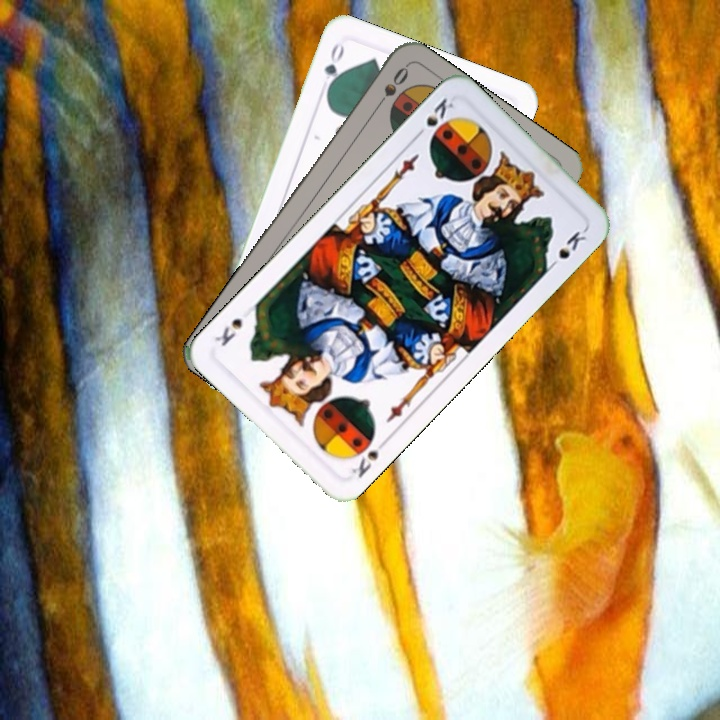GO: (320, 37, 347, 96)
SK: (410, 93, 457, 142), (347, 434, 391, 481)
SO: (370, 62, 412, 114)
